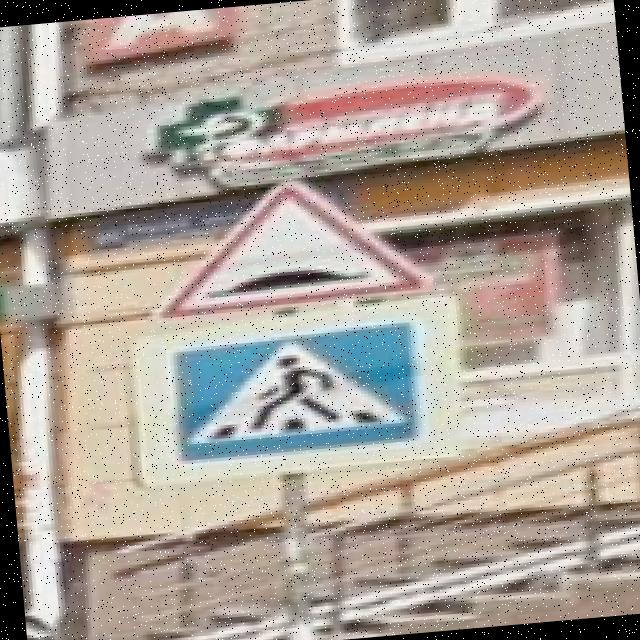Przejscie dla pieszych: (125, 292, 469, 490)
